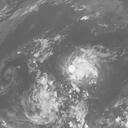cyclone: (68, 56, 96, 82)
